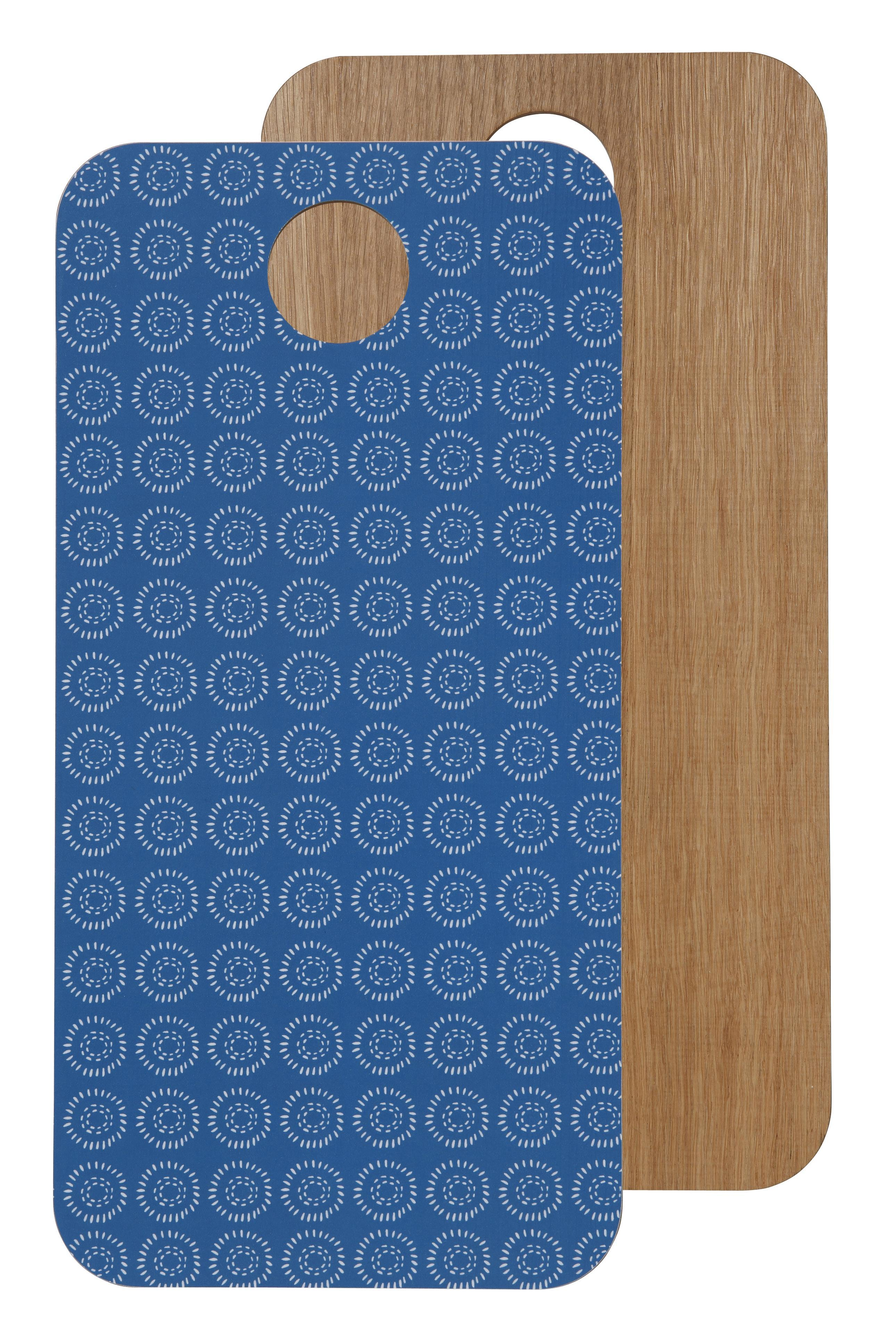gloved_hand: (39, 133, 639, 1298)
